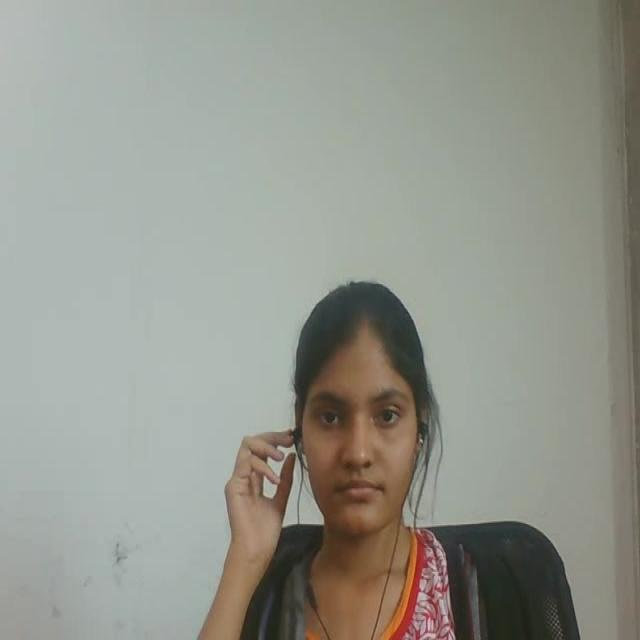Engaged: (259, 274, 450, 562)
